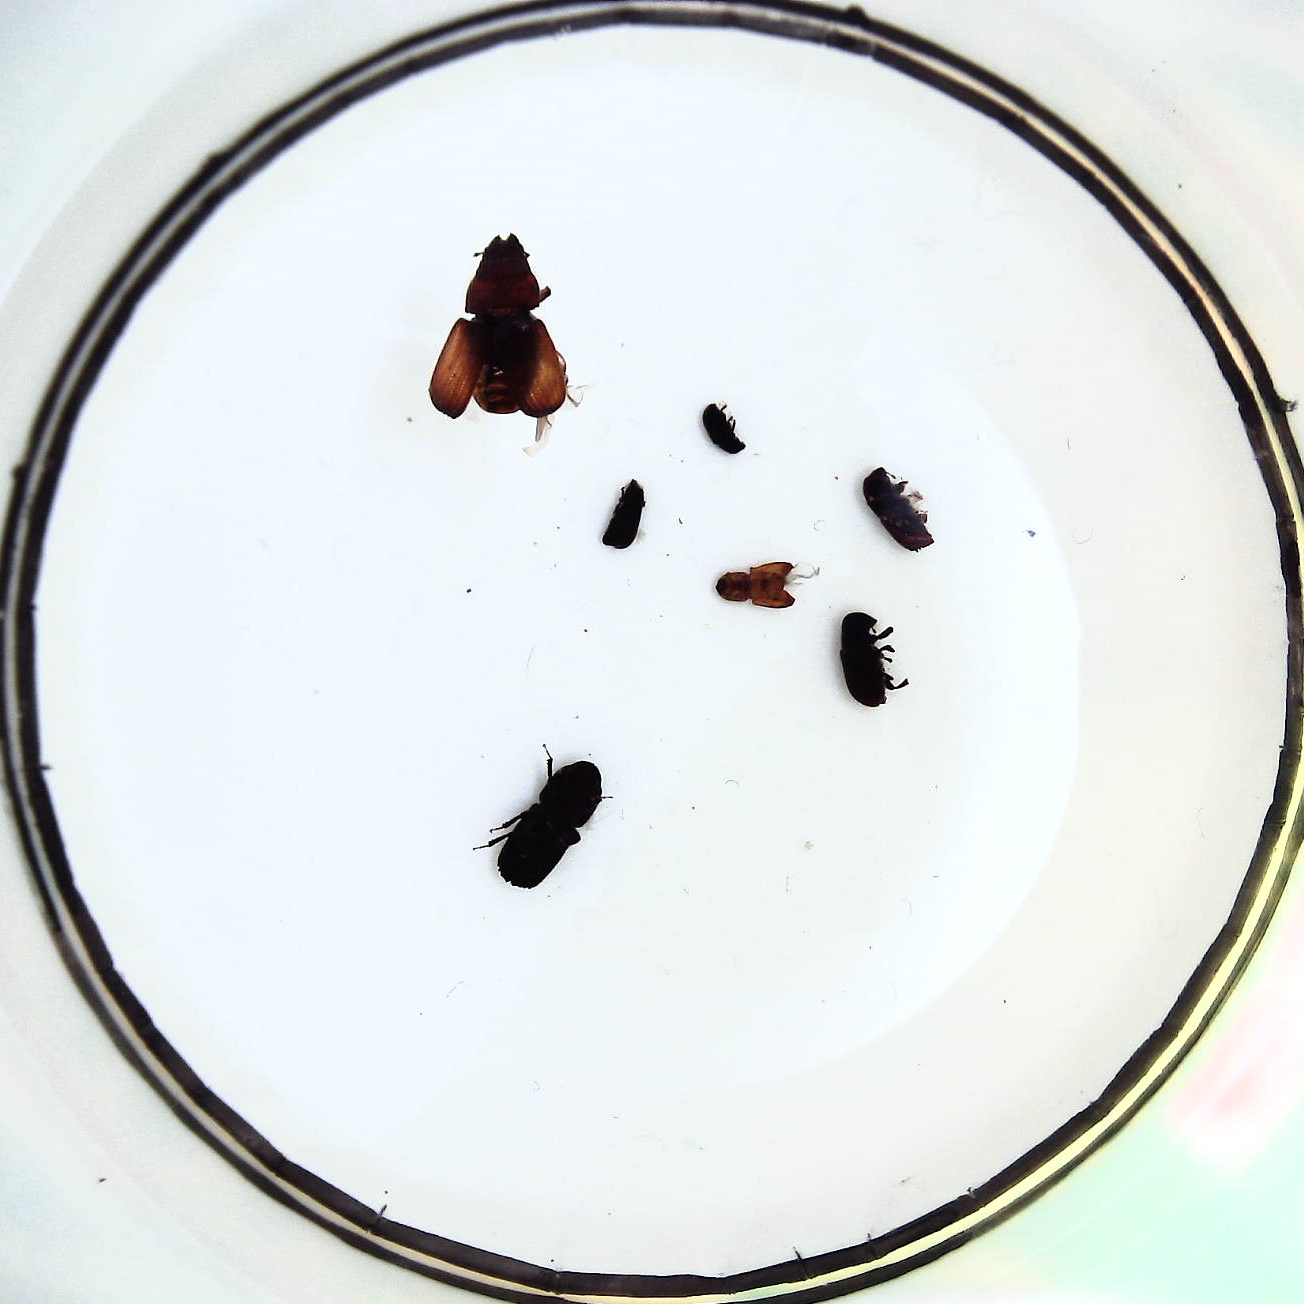Boerner: (499, 754, 604, 890)
Leconte: (432, 230, 571, 418)
Linnaeus: (863, 466, 931, 554)
acuminatus: (713, 561, 801, 607)
armandi: (838, 610, 898, 711)
coleoptera: (601, 479, 648, 549), (701, 400, 748, 455)
